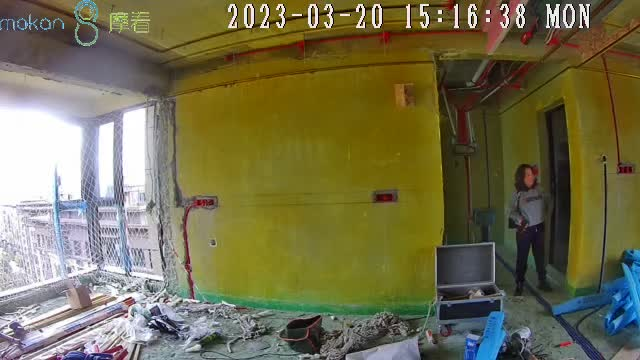people: (510, 165, 551, 294)
window: (1, 103, 155, 313)
